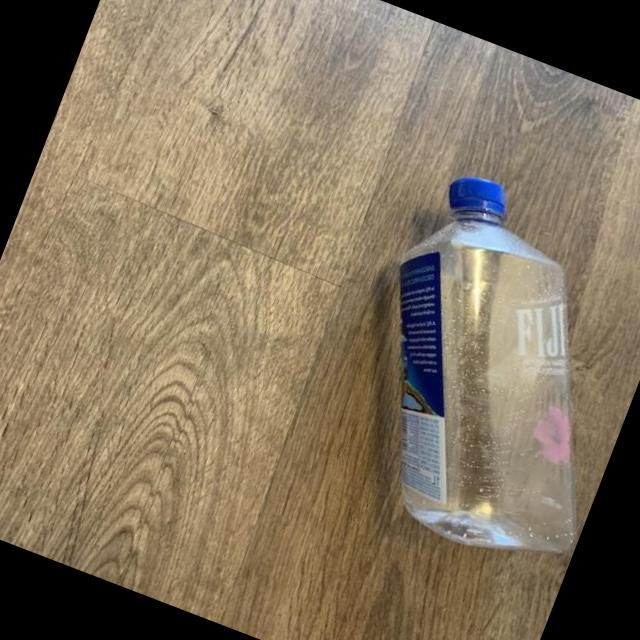BotolPlastik: (312, 158, 640, 584)
